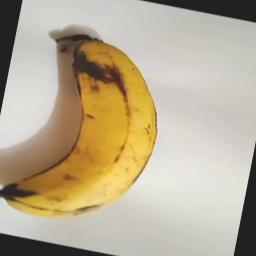Banana Unripe: (0, 16, 177, 237)
